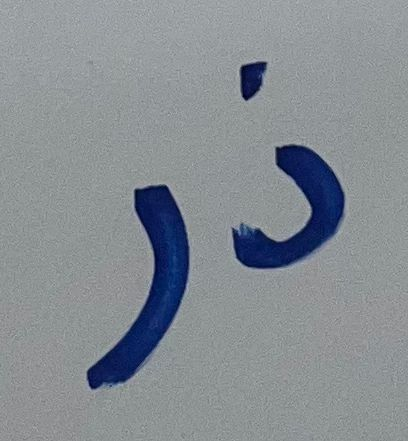dal: (216, 39, 375, 291)
reh: (65, 143, 206, 405)
